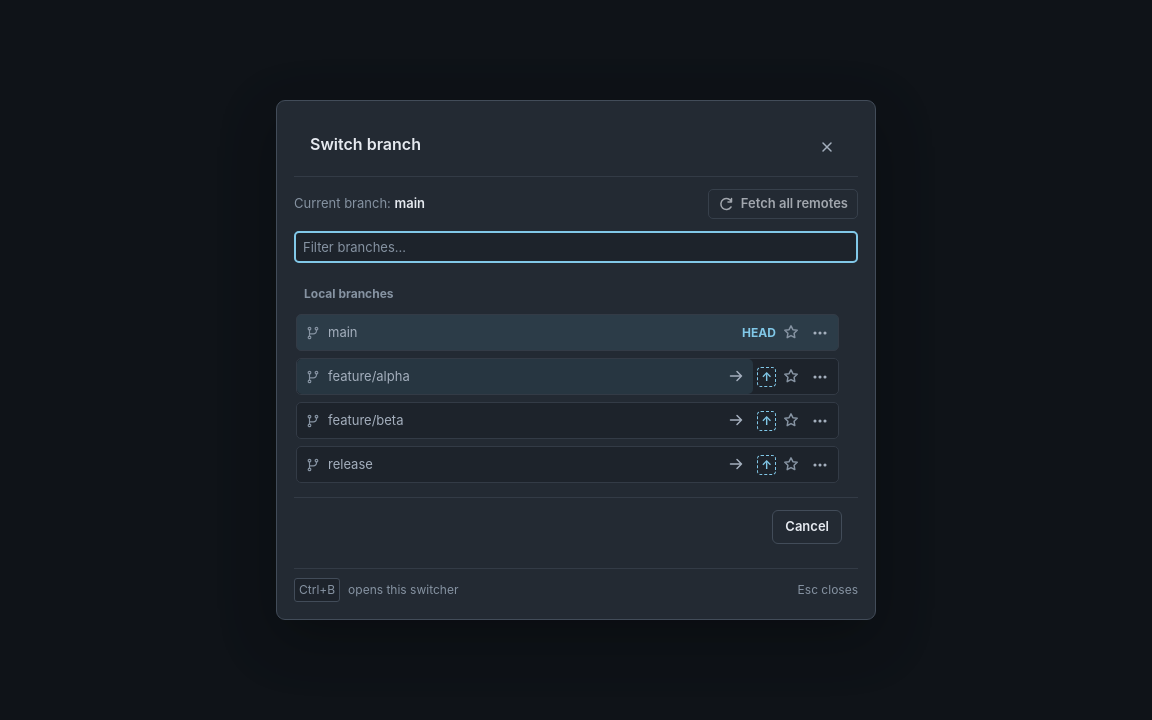
Test: disables mutations while a task runs but retains copy and history
Expected: the button "Fetch all remotes" is disabled, [708,189,858,219]
Step 1. Click the button named "More actions for feature/alpha" → (820, 376), box [806,364,834,390]
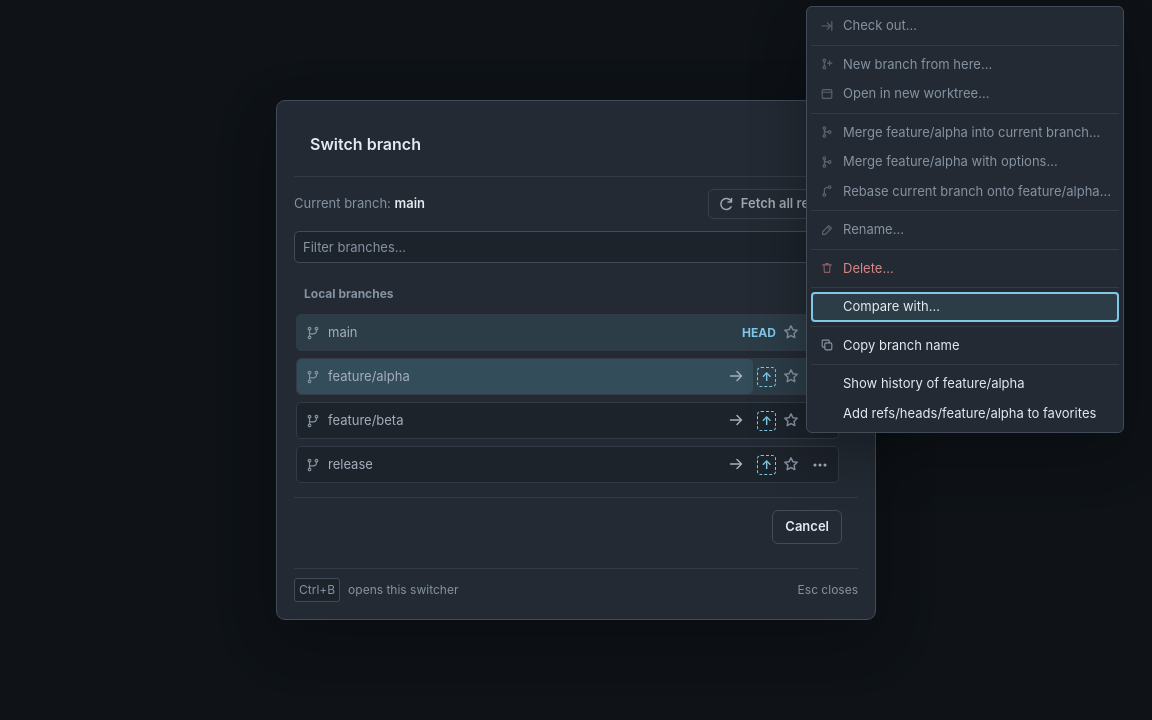
Expected: the menu item "Merge feature/alpha into current branch…" is disabled, [811,118,1119,147]
Expected: the menu item "Copy branch name" is enabled, [811,330,1119,360]
